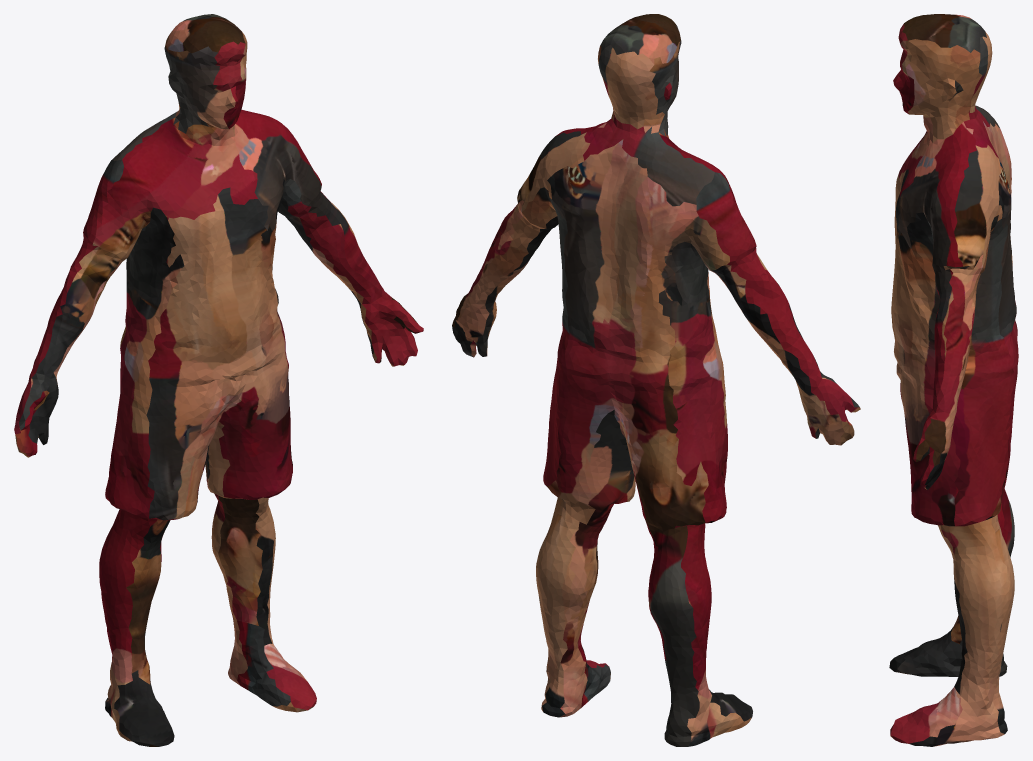
File: suspeito.glb
The picture shows the model from 3 angles, left to right: view 1: azimuth 30°, elevation 25°; view 2: azimuth 150°, elevation 25°; view 3: azimuth 270°, elevation 25°; orthographic projection.
Visible parts, largest first — view 1: geometry_0; view 2: geometry_0; view 3: geometry_0.
Boxes of the visible parts, x1=… form: geometry_0: x1=14, y1=14, x2=423, y2=746; geometry_0: x1=452, y1=14, x2=860, y2=746; geometry_0: x1=889, y1=14, x2=1018, y2=746.
Bounding box in the file's own units: 1.22 × 1.99 × 0.339.
Materials: 1 (1 with a texture image).
